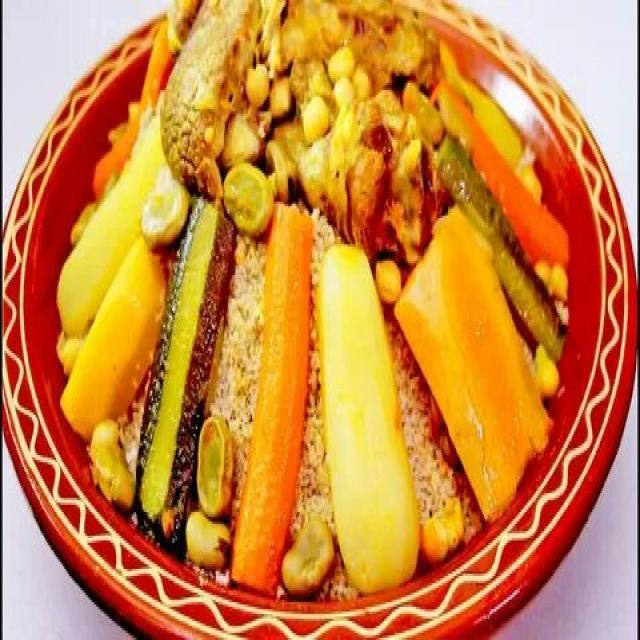Couscous: (53, 0, 568, 593)
